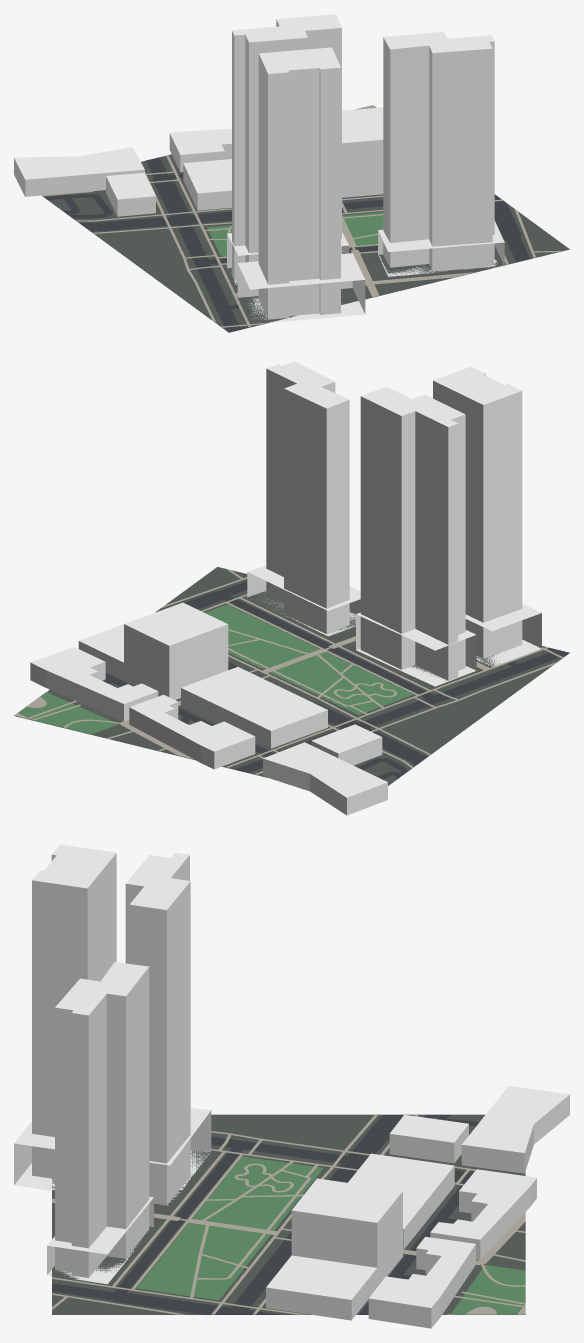
File: tile_004_006.glb
The picture shows the model from 3 angles, top to bottom: view 1: azimuth 30°, elevation 25°; view 2: azimuth 150°, elevation 25°; view 3: azimuth 270°, elevation 25°; orthographic projection. The views are drawn at different scales.
Parts seen in each view (by area): view 1: tile_004_006_buildings_detailed_bgc_building_0004, tile_004_006_buildings_neutral, tile_004_006_ground, tile_004_006_buildings_detailed_bgc_building_0005, tile_004_006_buildings_retail, tile_004_006_roads, tile_004_006_buildings_residential, tile_004_006_paths, tile_004_006_buildings_office, tile_004_006_open_spaces; view 2: tile_004_006_buildings_detailed_bgc_building_0005, tile_004_006_buildings_neutral, tile_004_006_buildings_detailed_bgc_building_0004, tile_004_006_buildings_retail, tile_004_006_ground, tile_004_006_open_spaces, tile_004_006_buildings_office, tile_004_006_roads, tile_004_006_paths, tile_004_006_buildings_residential; view 3: tile_004_006_buildings_detailed_bgc_building_0004, tile_004_006_buildings_neutral, tile_004_006_buildings_retail, tile_004_006_buildings_detailed_bgc_building_0005, tile_004_006_ground, tile_004_006_open_spaces, tile_004_006_roads, tile_004_006_buildings_office, tile_004_006_paths, tile_004_006_buildings_residential.
Part boxes in pixels (x1,y1,x2,y2): tile_004_006_buildings_detailed_bgc_building_0004: (378,31,504,276); tile_004_006_buildings_neutral: (183,47,340,319); tile_004_006_ground: (42,108,569,332); tile_004_006_buildings_detailed_bgc_building_0005: (227,14,349,285); tile_004_006_buildings_retail: (14,128,231,216); tile_004_006_roads: (44,157,531,332); tile_004_006_buildings_residential: (237,253,365,322); tile_004_006_paths: (42,105,561,327); tile_004_006_buildings_office: (342,107,383,197); tile_004_006_open_spaces: (207,108,383,256); tile_004_006_buildings_detailed_bgc_building_0005: (356,387,476,686); tile_004_006_buildings_neutral: (78,366,522,748); tile_004_006_buildings_detailed_bgc_building_0004: (247,361,360,636); tile_004_006_buildings_retail: (30,647,387,815); tile_004_006_ground: (14,567,567,785); tile_004_006_open_spaces: (18,604,413,776); tile_004_006_buildings_office: (124,602,228,699); tile_004_006_roads: (104,581,569,779); tile_004_006_paths: (14,568,562,774); tile_004_006_buildings_residential: (465,603,541,666); tile_004_006_buildings_detailed_bgc_building_0004: (47,962,153,1284); tile_004_006_buildings_neutral: (32,844,454,1320); tile_004_006_buildings_retail: (368,1086,569,1328); tile_004_006_buildings_detailed_bgc_building_0005: (125,852,211,1205); tile_004_006_ground: (52,1114,525,1314); tile_004_006_open_spaces: (136,1156,525,1314); tile_004_006_roads: (52,1114,479,1314); tile_004_006_buildings_office: (291,1178,402,1286); tile_004_006_paths: (52,1114,525,1314); tile_004_006_buildings_residential: (14,1121,54,1190).
Bounding box in the file's own units: 277 × 172 × 293.
